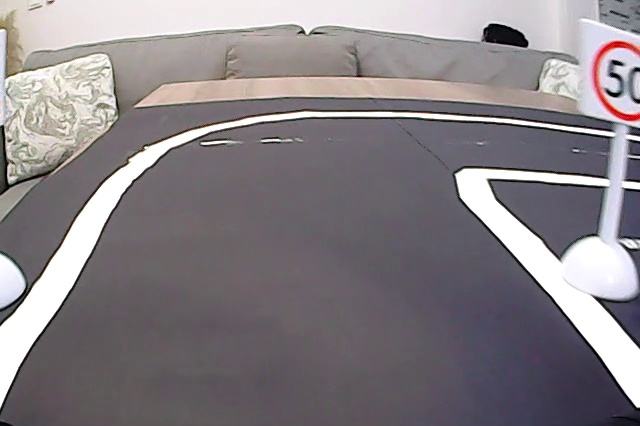speed limit 50: (586, 32, 640, 125)
